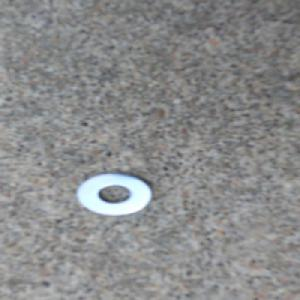Washer: (73, 170, 155, 219)
